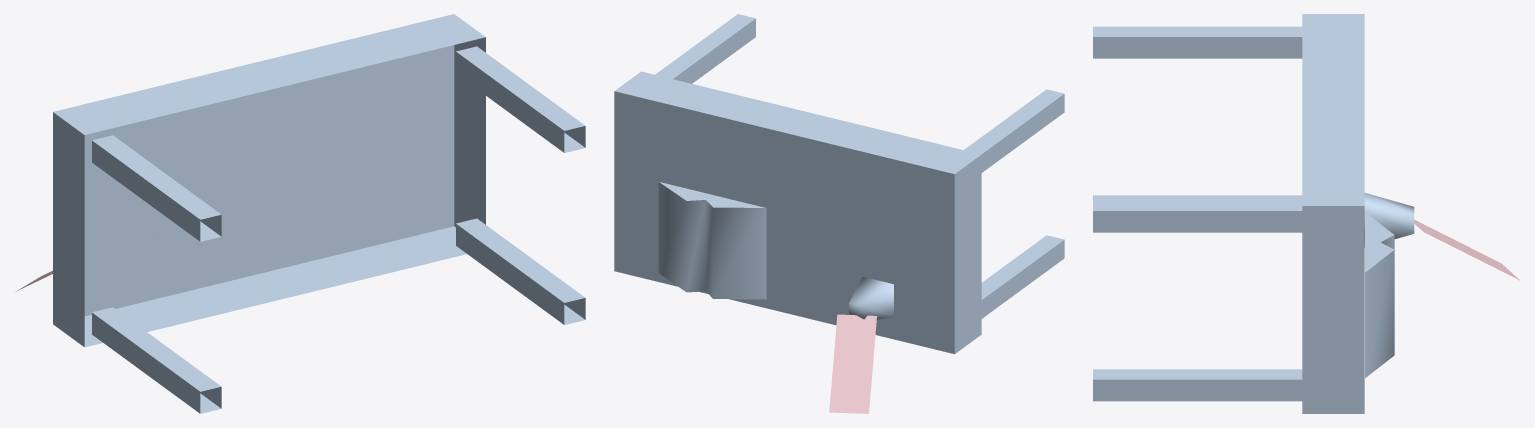
3 views of the same model, side by side, from view 1: azimuth 30°, elevation 25°; view 2: azimuth 150°, elevation 25°; view 3: azimuth 270°, elevation 25° (orthographic). The views are drawn at different scales.
Parts seen in each view (by area): view 1: Object81; view 2: Object81; view 3: Object81.
Part boxes in pixels (x1,y1,x2,y2): Object81: (16, 14, 585, 413); Object81: (614, 14, 1064, 413); Object81: (1093, 14, 1520, 413).
Size of the model in its own units: 14939 by 8508 by 14075.
